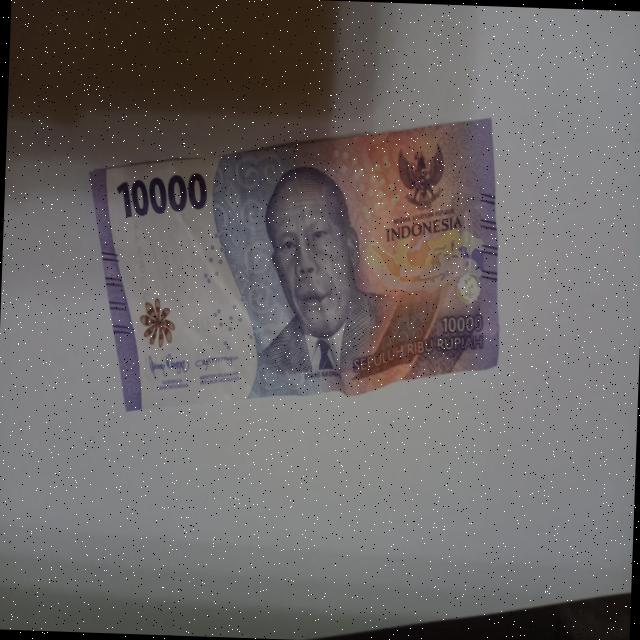10K: (76, 97, 510, 429)
